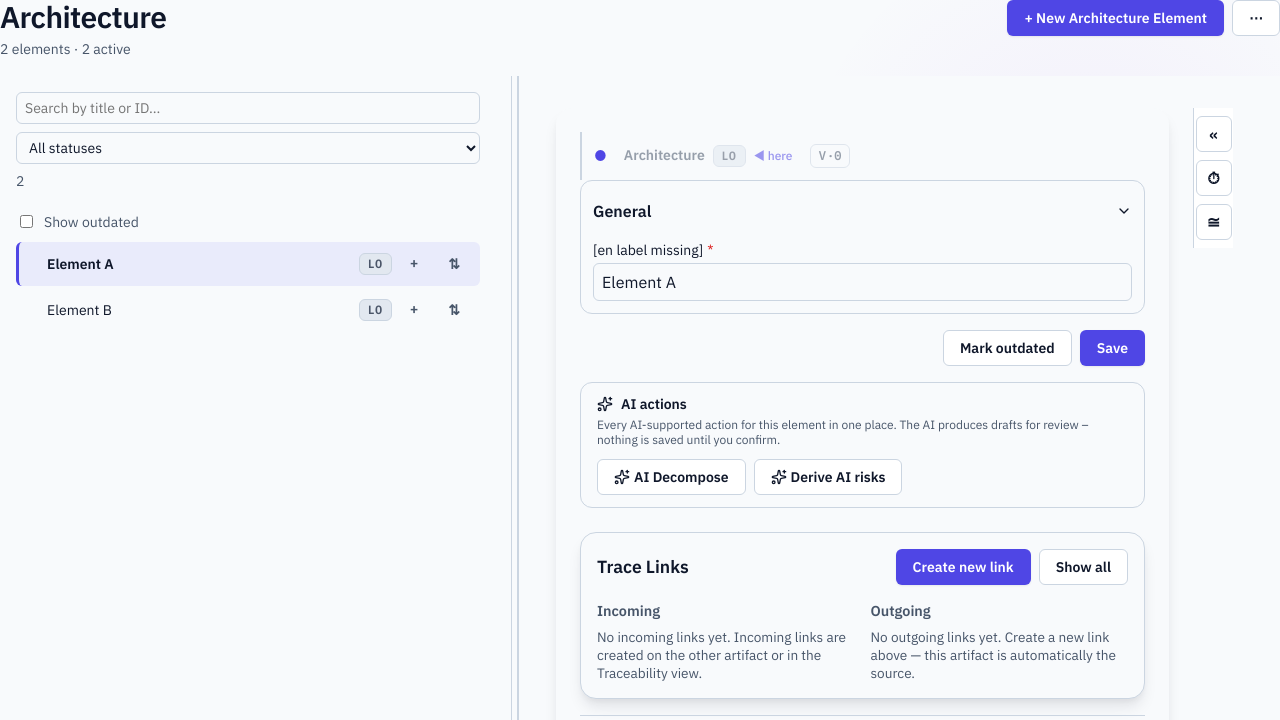
Test case: ArchitectureEditors — unsaved-changes confirmation before tree navigation (#672) › warns before discarding an unsaved edit when a different tree item is clicked, and stays on the current item if canceled
Replace the text in the field with test id "artifact-field-title" with "Unsaved edit" at (862, 282), box [593,262,1132,300]
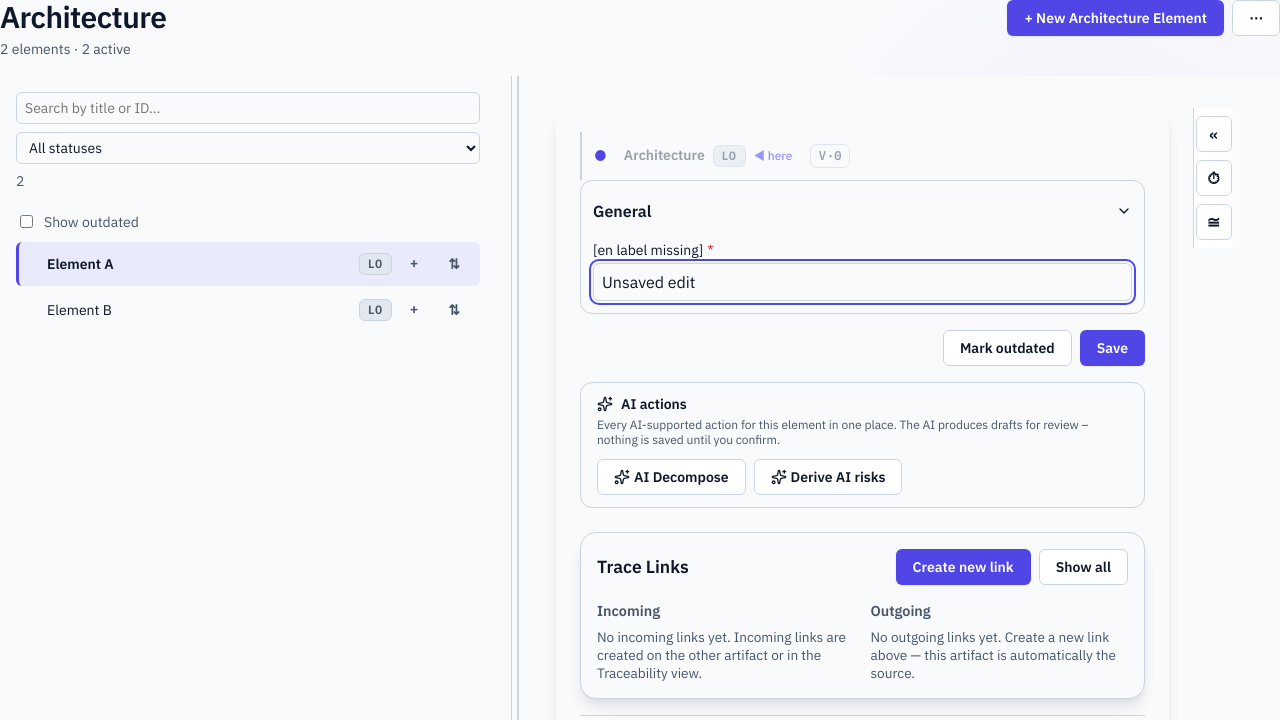
Click the list item "Element B L0 + ⇅" at (79, 310), box [16,288,480,332]
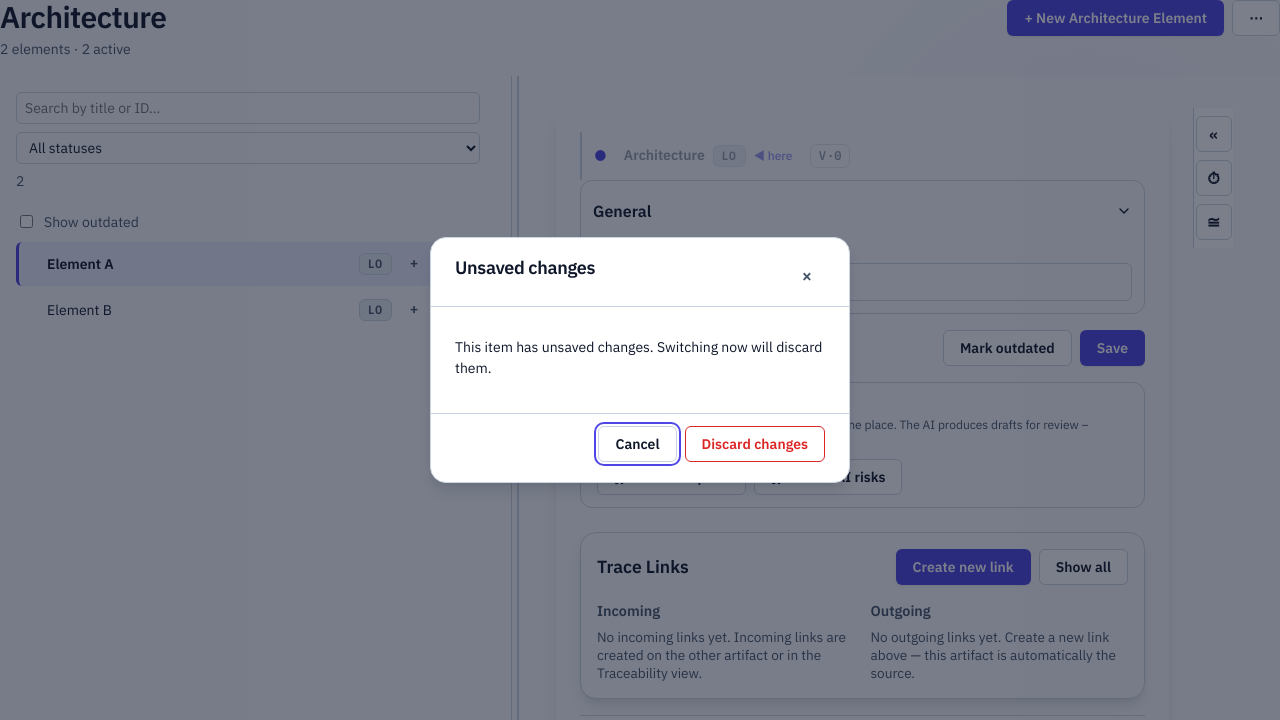
Expected: the dialog with test id "arch-unsaved-changes-dialog" is shown, [430,237,850,483]
Click the button with test id "arch-unsaved-changes-dialog-cancel" at (638, 444), box [598,426,677,462]
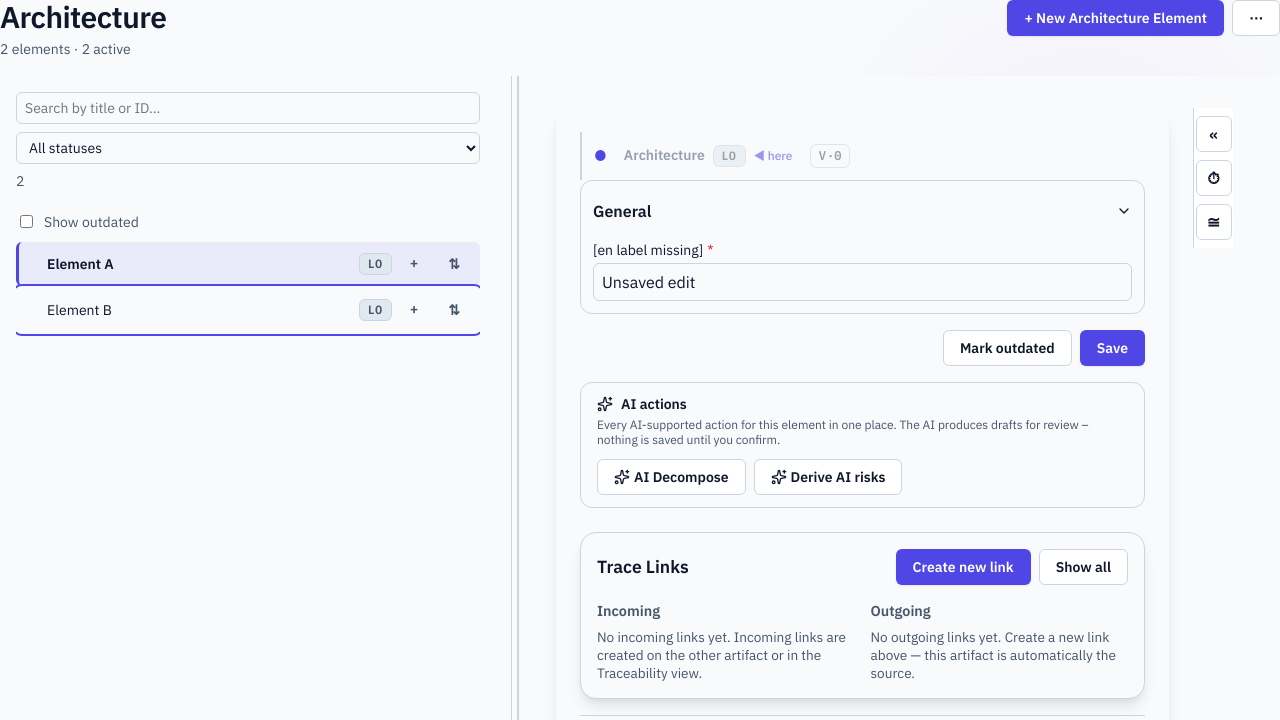
Expected: the dialog with test id "arch-unsaved-changes-dialog" is gone
